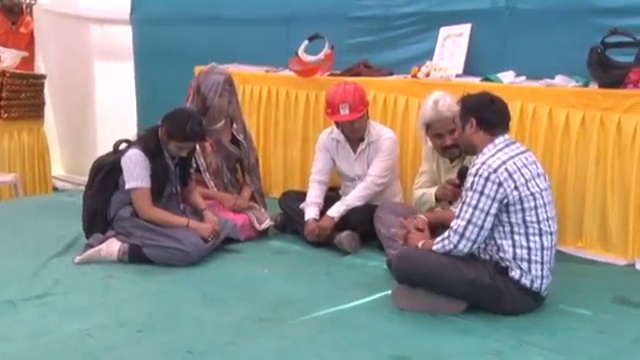helmet: (322, 83, 372, 126), (0, 44, 30, 73)
helmet_off: (454, 90, 511, 162), (415, 91, 465, 160), (150, 105, 206, 166), (189, 68, 239, 136), (0, 0, 28, 22)
helmet_on: (323, 85, 376, 145)
person: (384, 81, 559, 315), (272, 72, 408, 256), (73, 110, 229, 265), (372, 90, 480, 249), (183, 66, 272, 251), (1, 1, 36, 74)
